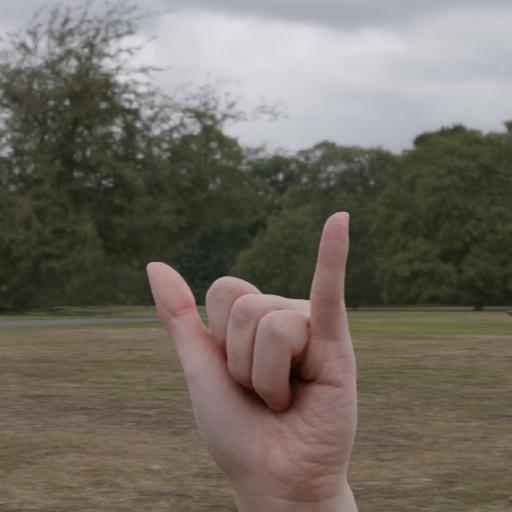Y: (132, 216, 368, 512)
